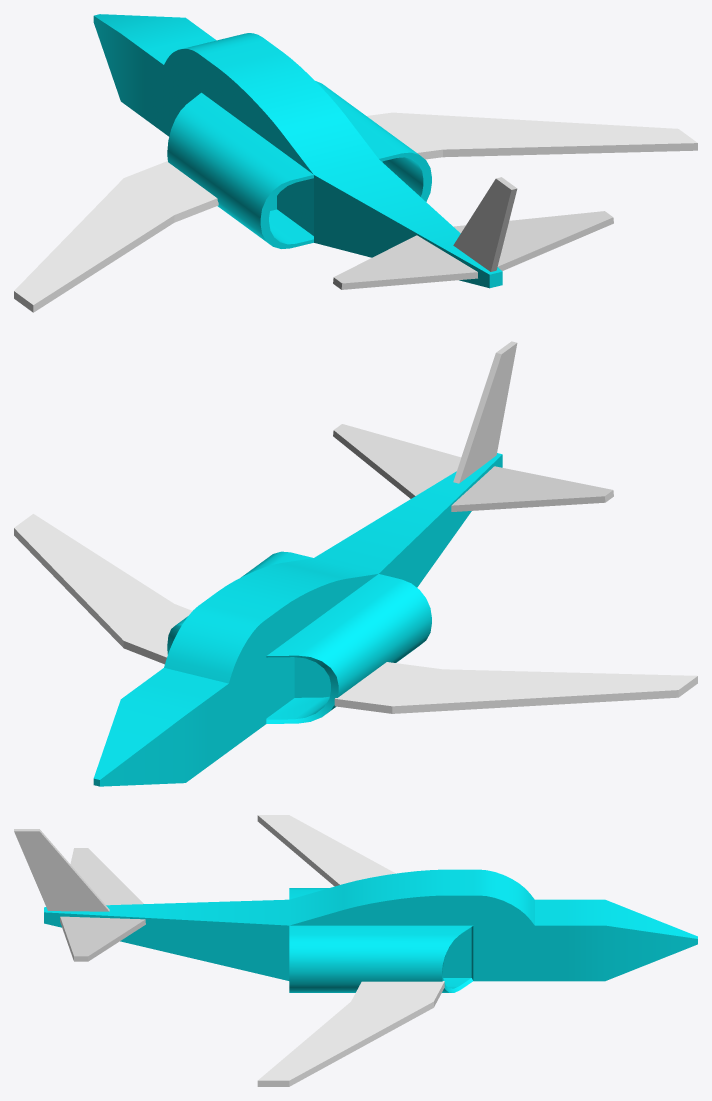
Rendered from FriendlyPlane.fbx.
3 renders of one model, top to bottom at view 1: azimuth 30°, elevation 25°; view 2: azimuth 150°, elevation 25°; view 3: azimuth 270°, elevation 25°, orthographic. The views are drawn at different scales.
Parts seen in each view (by area): view 1: Cube, Cube.001, Cube.003, Cube.002; view 2: Cube, Cube.001, Cube.003, Cube.002; view 3: Cube, Cube.001, Cube.003, Cube.002.
Part boxes in pixels (x1,y1,x2,y2): Cube: (93,14,502,288); Cube.001: (14,112,697,312); Cube.003: (333,211,613,289); Cube.002: (453,177,517,271); Cube: (93,453,502,786); Cube.001: (14,514,697,713); Cube.003: (333,424,613,511); Cube.002: (453,341,517,483); Cube: (44,869,697,992); Cube.001: (257,815,444,1086); Cube.003: (60,848,145,961); Cube.002: (14,829,109,911).
Bounding box in the file's own units: 11.15 × 10.24 × 2.48.
